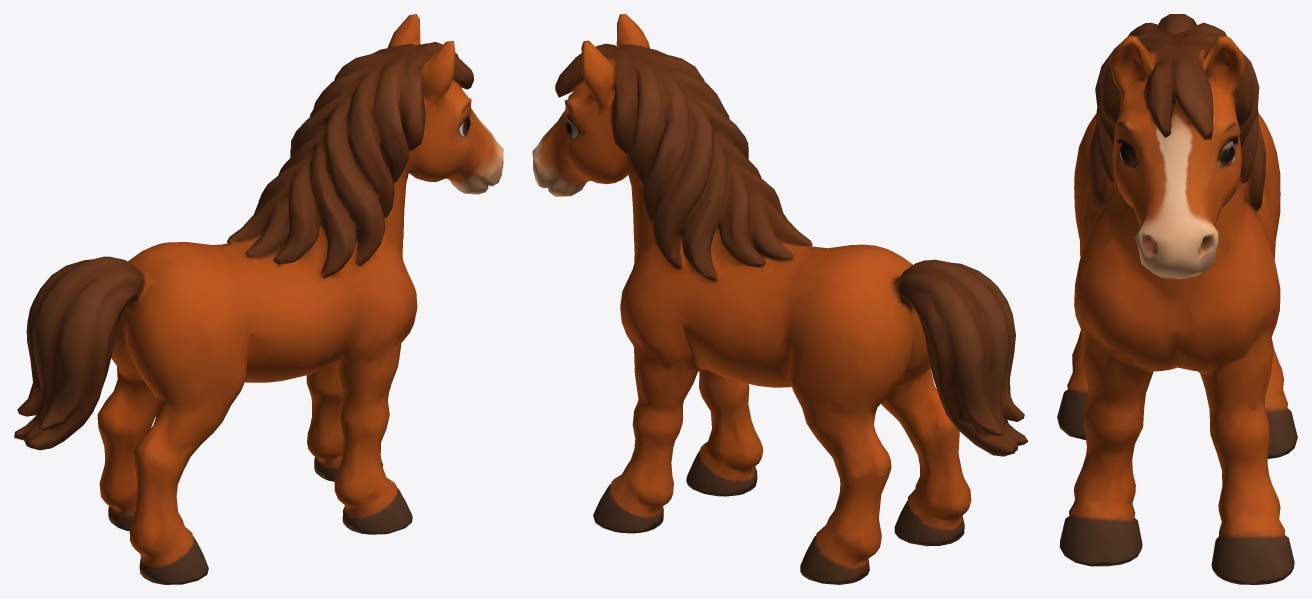
The model's file is horse.glb.
3 views of the same model, side by side, from view 1: azimuth 30°, elevation 25°; view 2: azimuth 150°, elevation 25°; view 3: azimuth 270°, elevation 25° (orthographic). The views are drawn at different scales.
Visible parts, largest first — view 1: tripo_node_69a0e7d6-0a65-4c6d-9dfa-759fb4747e56; view 2: tripo_node_69a0e7d6-0a65-4c6d-9dfa-759fb4747e56; view 3: tripo_node_69a0e7d6-0a65-4c6d-9dfa-759fb4747e56.
Boxes of the visible parts, left/top/right/bottom form: tripo_node_69a0e7d6-0a65-4c6d-9dfa-759fb4747e56: left=14, top=14, right=503, bottom=584; tripo_node_69a0e7d6-0a65-4c6d-9dfa-759fb4747e56: left=532, top=14, right=1028, bottom=584; tripo_node_69a0e7d6-0a65-4c6d-9dfa-759fb4747e56: left=1057, top=14, right=1297, bottom=584.
Bounding box in the file's own units: 1 × 0.8985 × 0.3475.
1 material, 1 textured.
